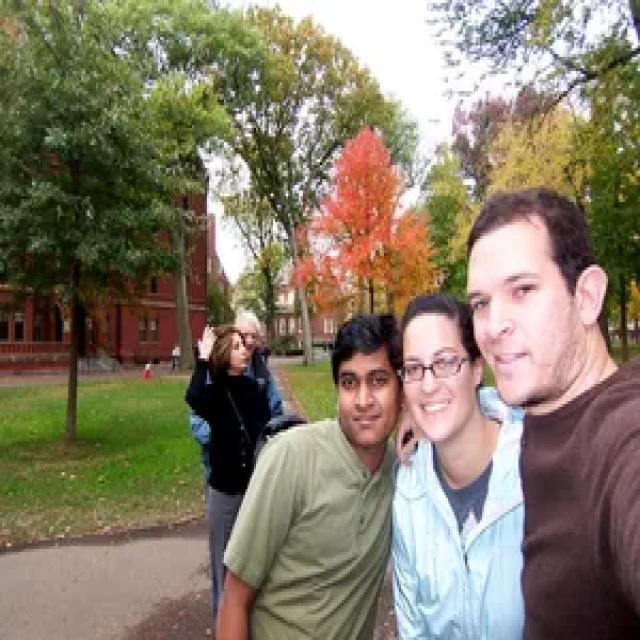nohelmet: (467, 218, 606, 405), (402, 299, 475, 450), (330, 318, 401, 456)
